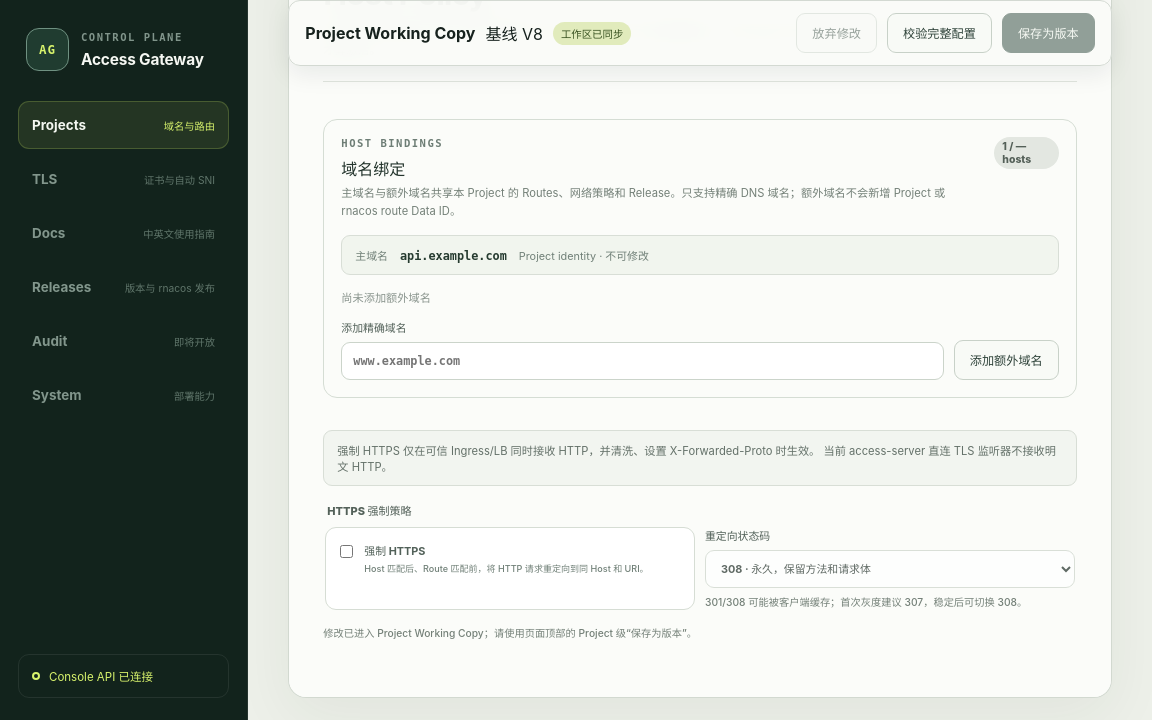
application routes › adds and removes a normalized exact Host alias in the Host Policy workspace
The width and height of the screenshot is (1152, 720).
(page scrolled)
Type " WWW.Example.com. " into the field named "添加额外域名".
click(642, 361); type(" WWW.Example.com. ")  # box x1=341 y1=342 x2=944 y2=380
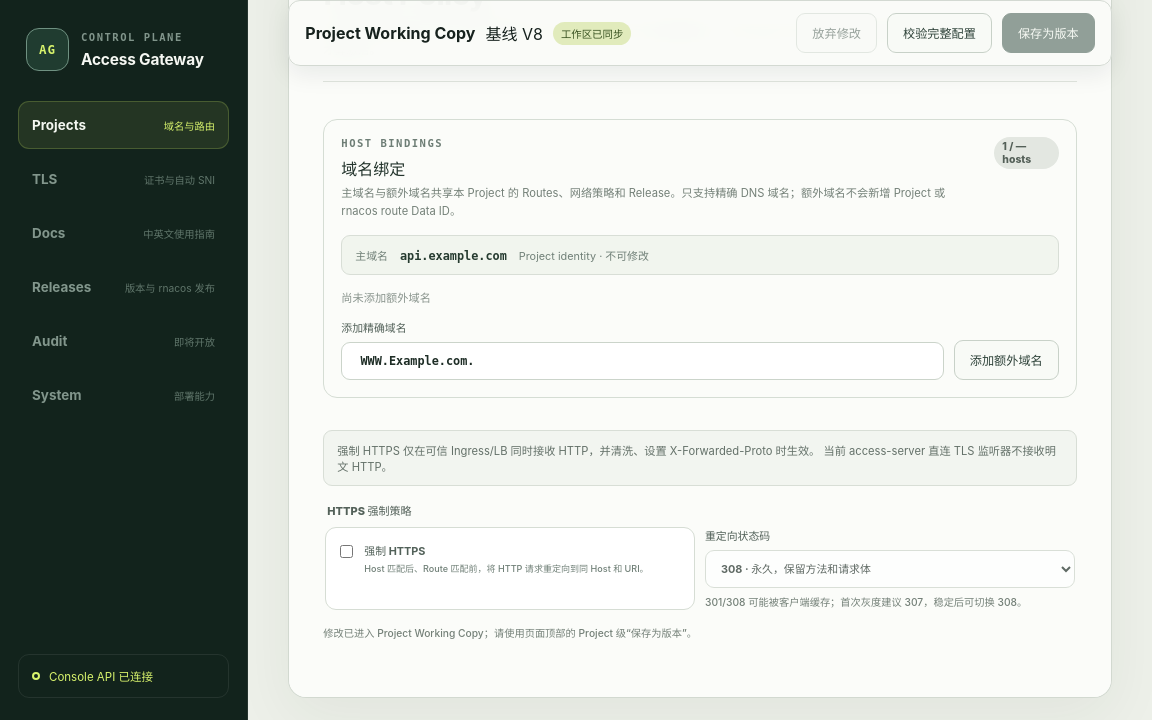
Click the button "添加额外域名".
click(1006, 360)  # box x1=954 y1=340 x2=1059 y2=380
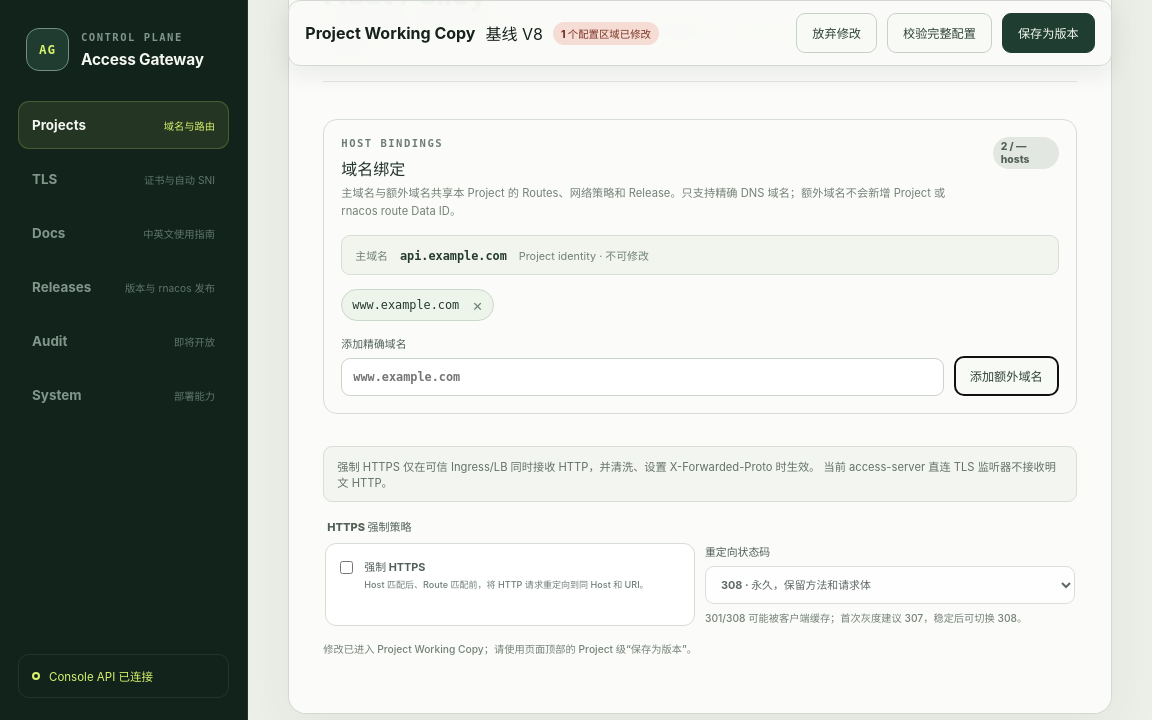
Expected: the text "www.example.com" is shown, x1=352 y1=298 x2=459 y2=312
Expected: the text "1 个配置区域已修改" is shown, x1=553 y1=22 x2=659 y2=44
Click the button named "移除额外域名 www.example.com".
click(477, 305)  # box x1=466 y1=294 x2=488 y2=316
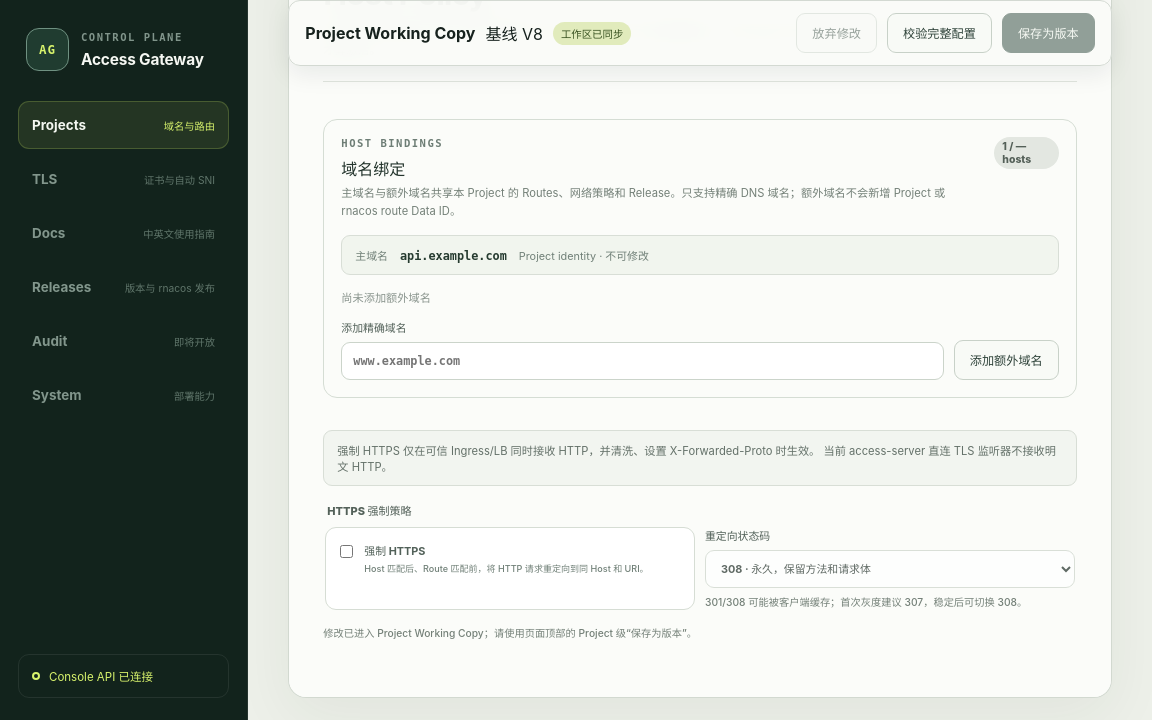
Expected: the text "尚未添加额外域名" is shown, x1=341 y1=289 x2=431 y2=305
